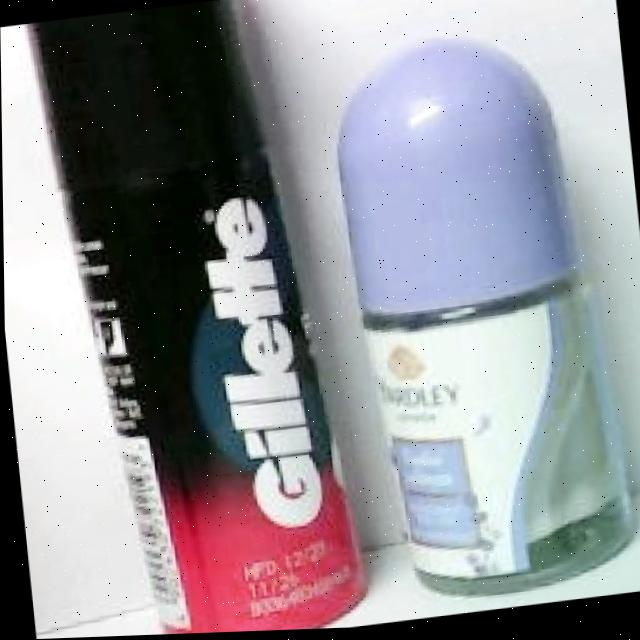gillette-foam: (26, 0, 369, 636)
yardley_rollon: (335, 44, 637, 603)
